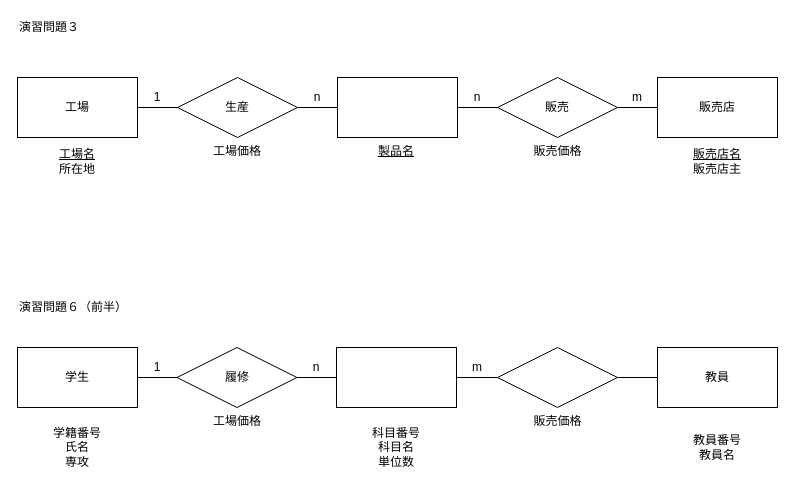
Image size: 795x486. Some labels were removed from this diagram. Here are the shapes that lost their labels. From the top down, the centre of each, then its label:
At [397,107]: "製品".
At [396,377]: "科目".
At [557,377]: "担当".
